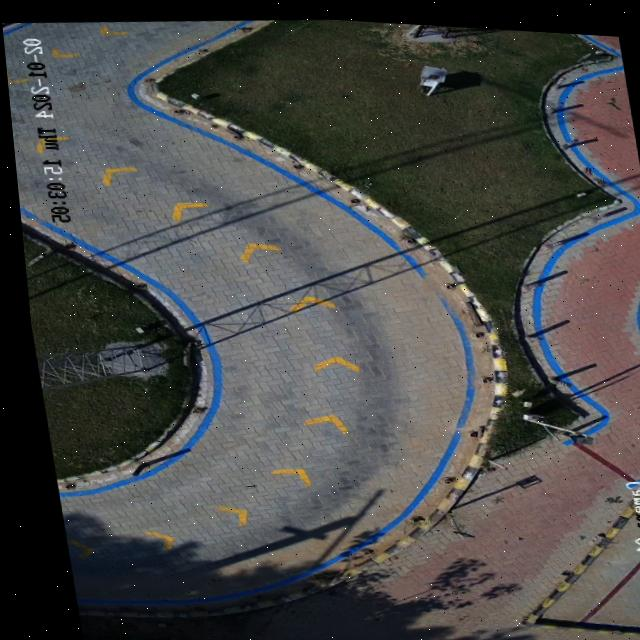No Car: (2, 14, 640, 640)
